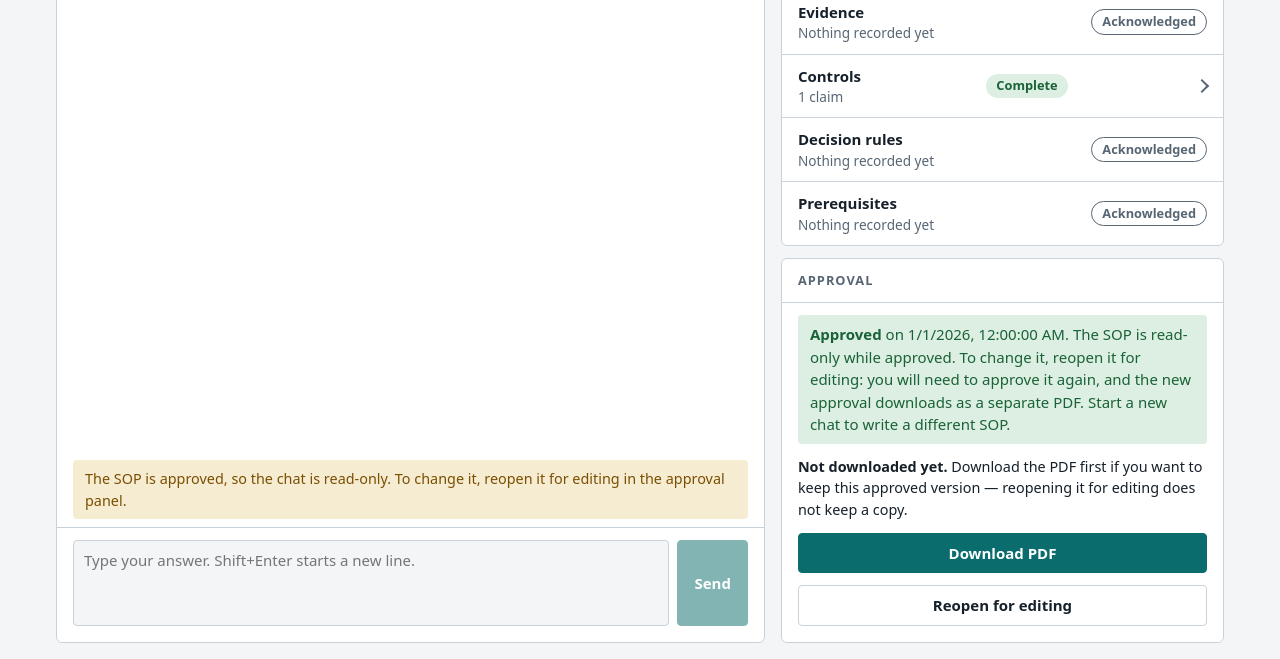
Test: downloading the approved SOP › keeps the recorded download on screen when the session cannot be saved, and warns
The image size is (1280, 659).
(page scrolled)
Click the button "Download PDF" at [1002, 553], box [798, 533, 1207, 573]
(page scrolled)
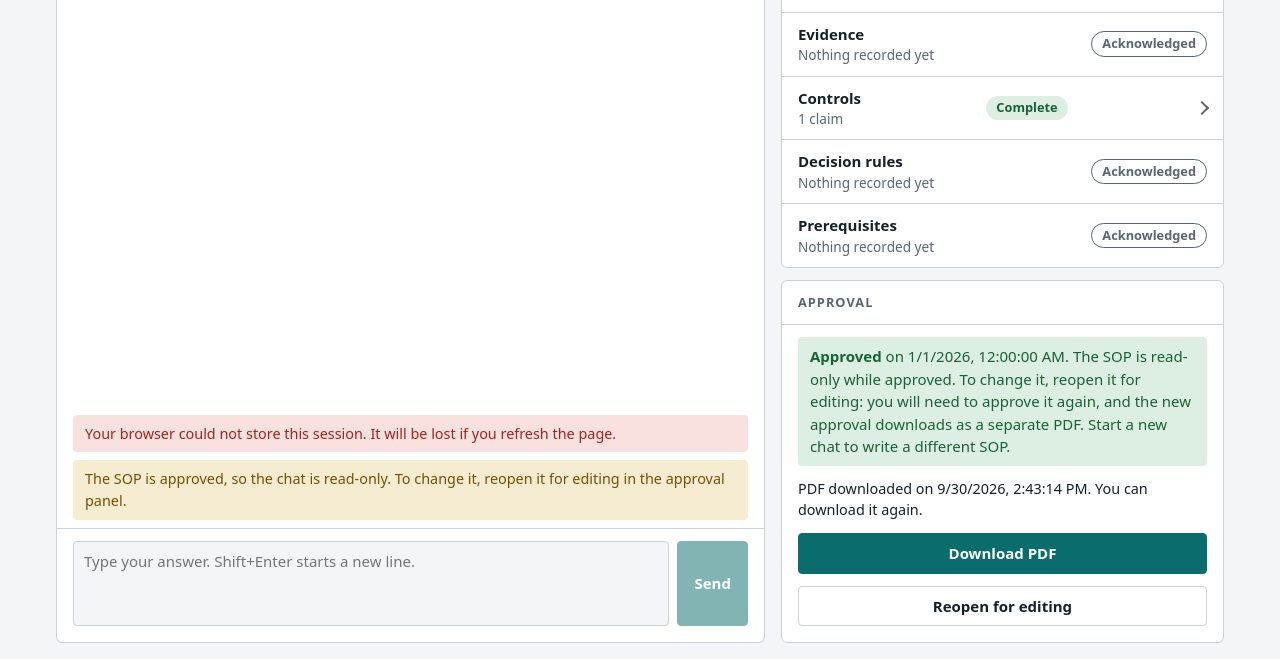
Check: the text "PDF downloaded on" is shown, box [798, 479, 937, 498]
Check: the 2nd message shows "could not store this session", box [85, 424, 616, 443]
